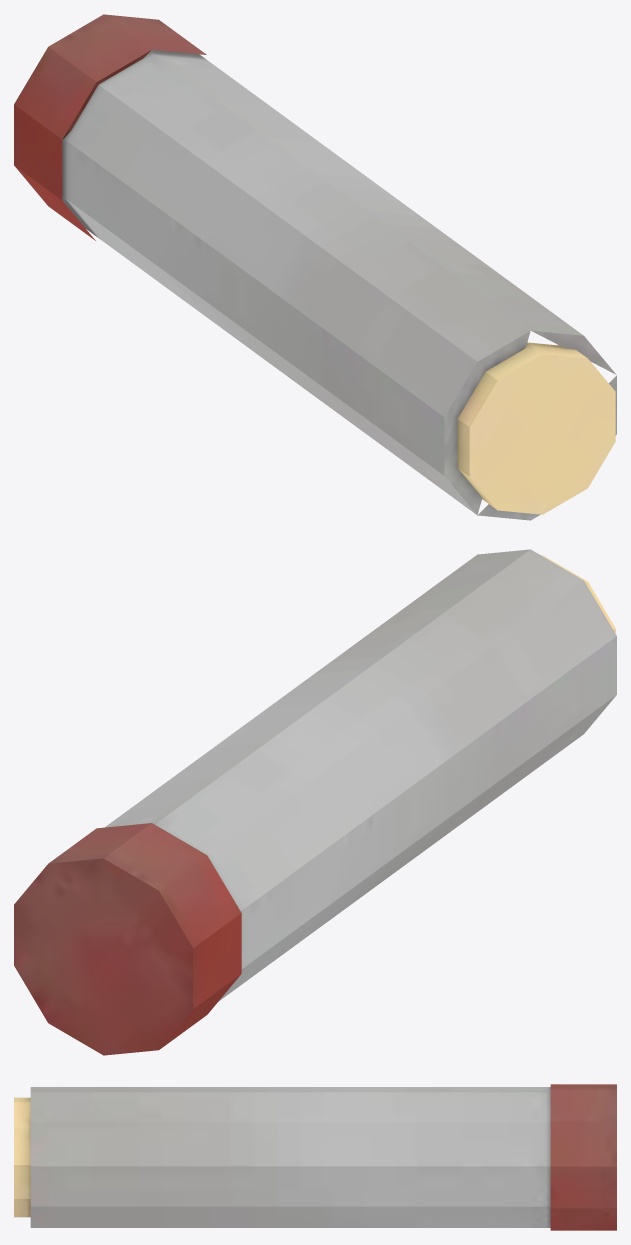
File: flare.glb
3 renders of one model, top to bottom at view 1: azimuth 30°, elevation 25°; view 2: azimuth 150°, elevation 25°; view 3: azimuth 270°, elevation 25°, orthographic. The views are drawn at different scales.
Parts seen in each view (by area): view 1: body; view 2: body; view 3: body.
Part boxes in pixels (x1=…): body: x1=14, y1=14, x2=616, y2=520; body: x1=14, y1=549, x2=616, y2=1055; body: x1=14, y1=1084, x2=616, y2=1230.
Bounding box in the file's own units: 0.0257 × 0.027 × 0.109.
Materials: 1 (1 with a texture image).
